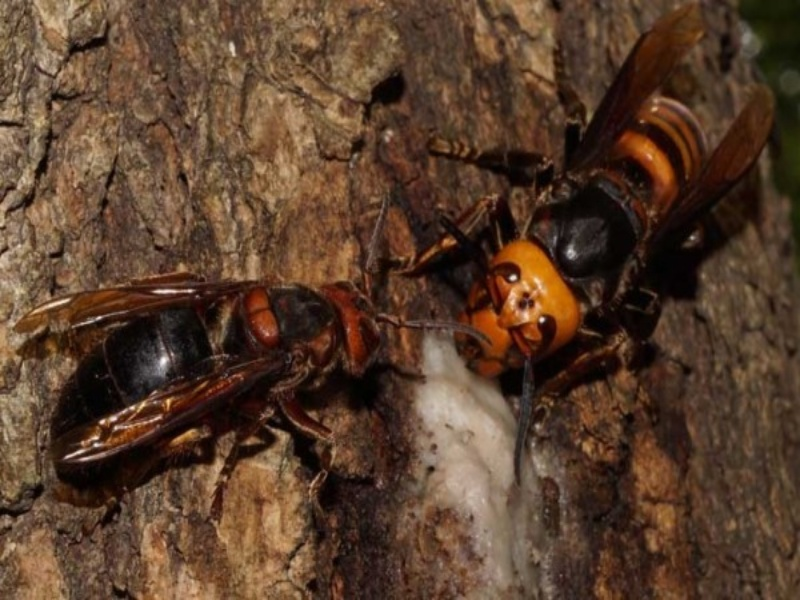asian_giant_hornet: (451, 96, 712, 390)
